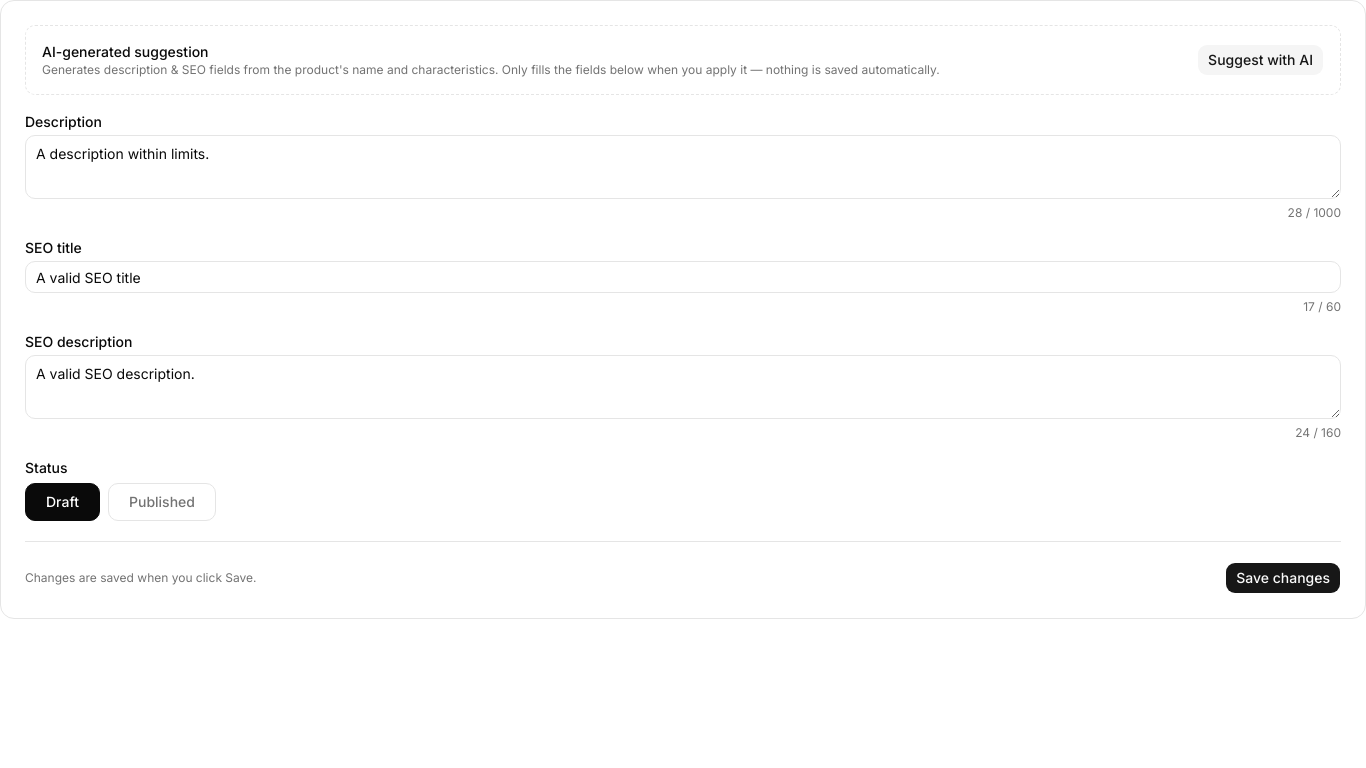
ProductEditorForm save flow › shows a network-error message when the request throws, keeping the edits
The image size is (1366, 768).
Type " extra" into the text box labelled "Description" at [683, 167], box top-left (25, 135), bottom-right (1341, 199)
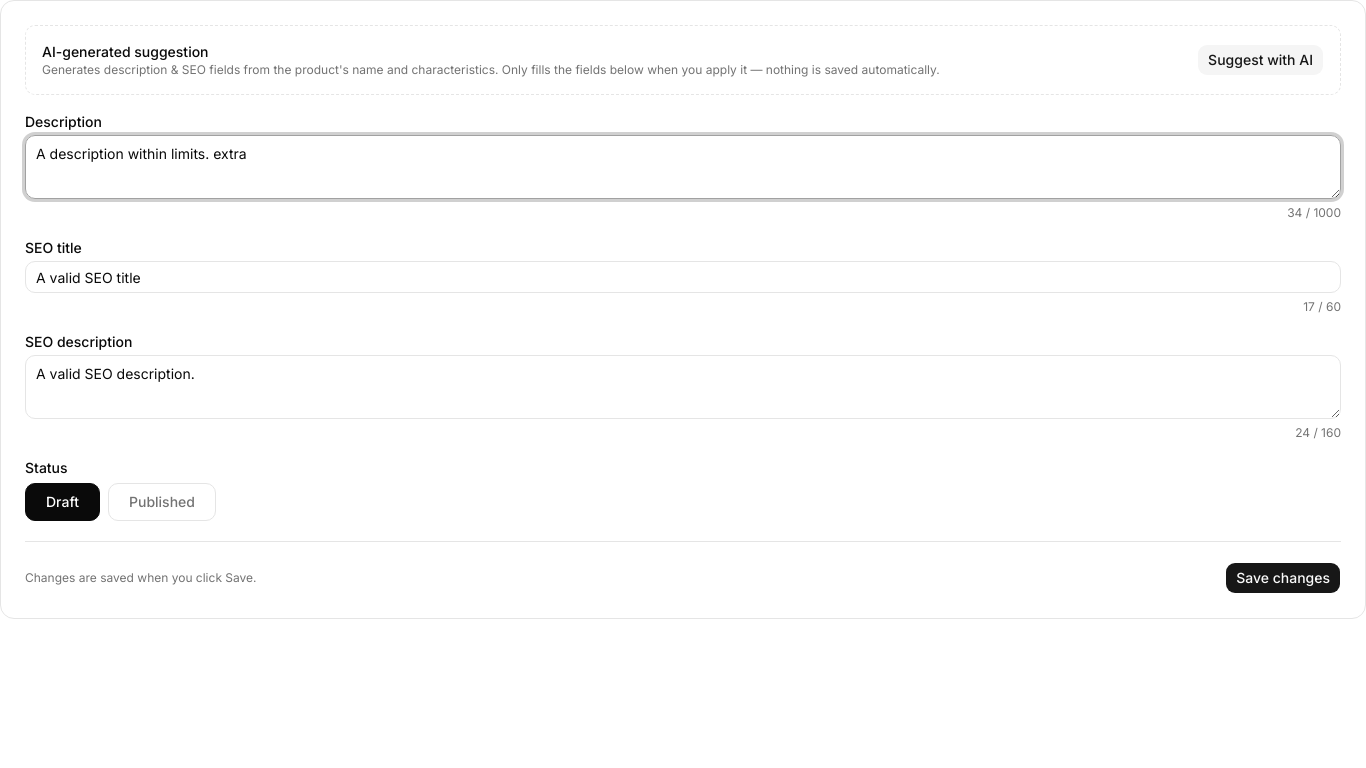
Click the button "Save changes" at [1283, 578], box top-left (1225, 562), bottom-right (1341, 594)
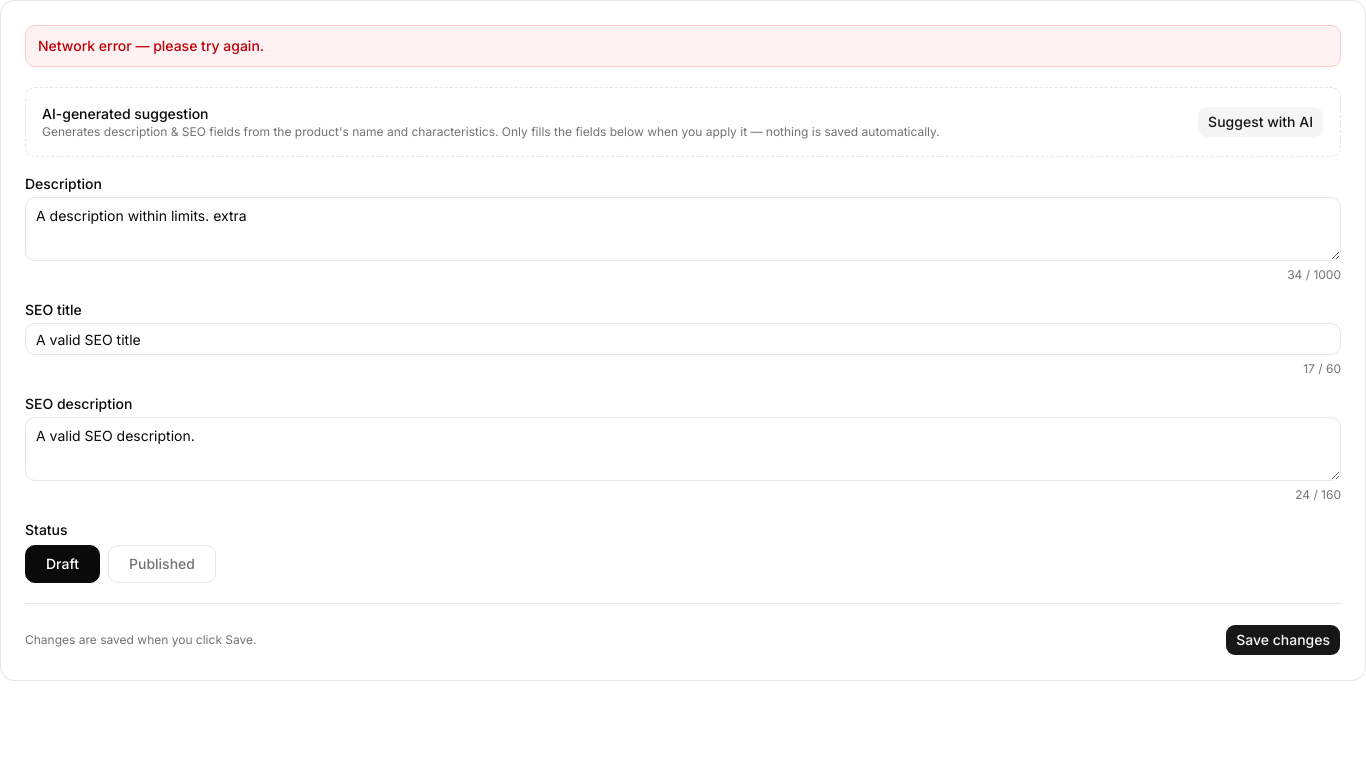
Result: the text box labelled "Description" holds "A description within limits. extra" at top-left (25, 197), bottom-right (1341, 261)
Result: the text "Network error — please try again." is shown at top-left (25, 25), bottom-right (1341, 67)
